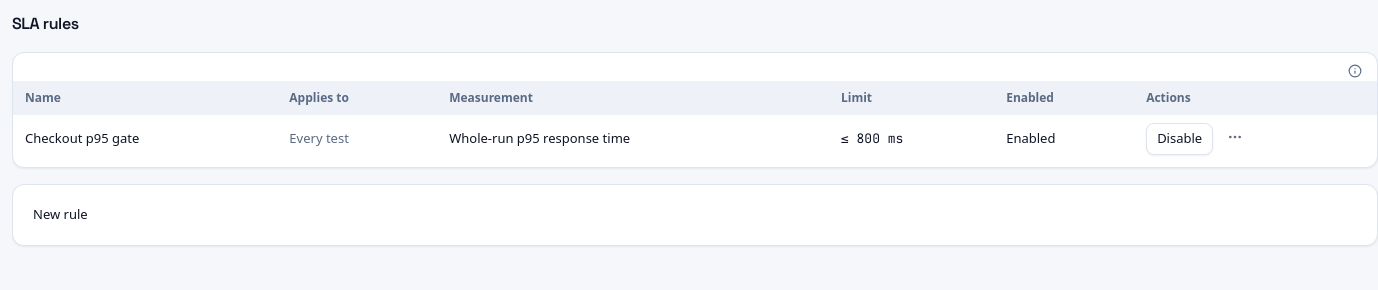
it: ProjectRules — the table › lets the reader back out of an armed delete
Click the button named "more actions" at x=1235, y=137, box [1221,123,1249,151]
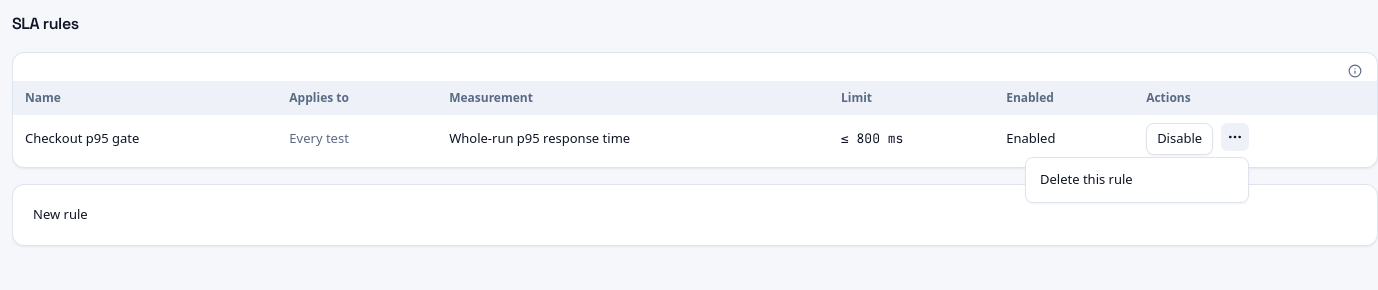
Click the menu item "Delete this rule" at x=1086, y=179, box [1040,170,1133,188]
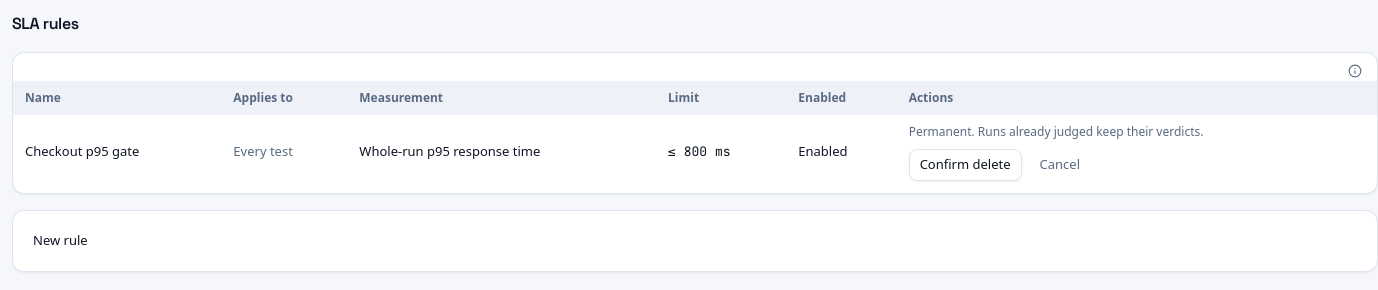
Click the button "Cancel" at x=1060, y=165, box [1030,149,1090,181]
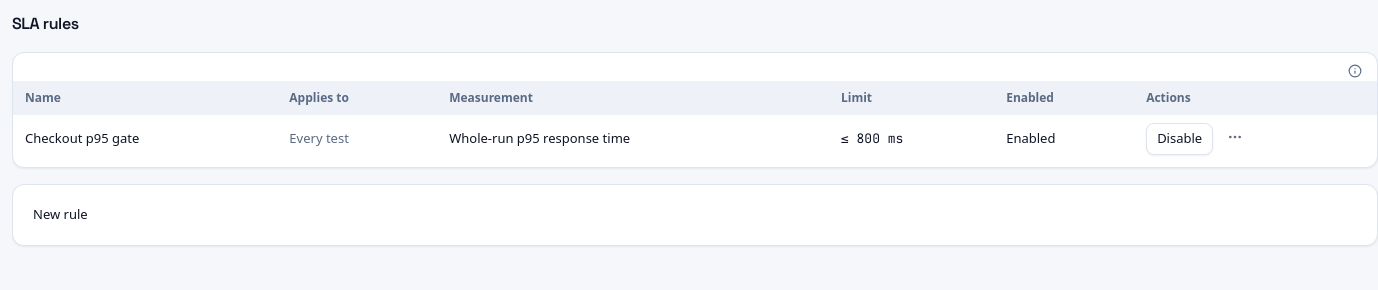
expect the button "Confirm delete" is gone: met
